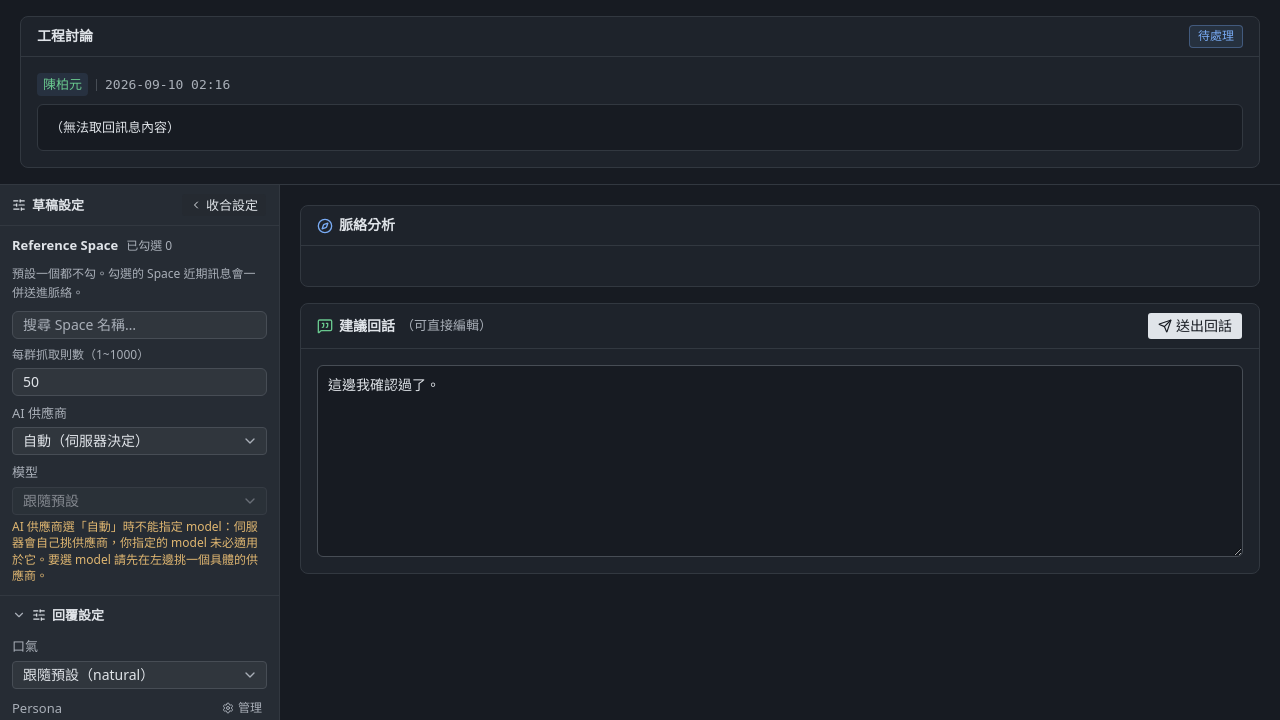
it: 送出的結果 › 正對照：送出成功會關掉對話框並標記已處理
Click the button "送出回話" at (1195, 326), box [1147,312,1243,340]
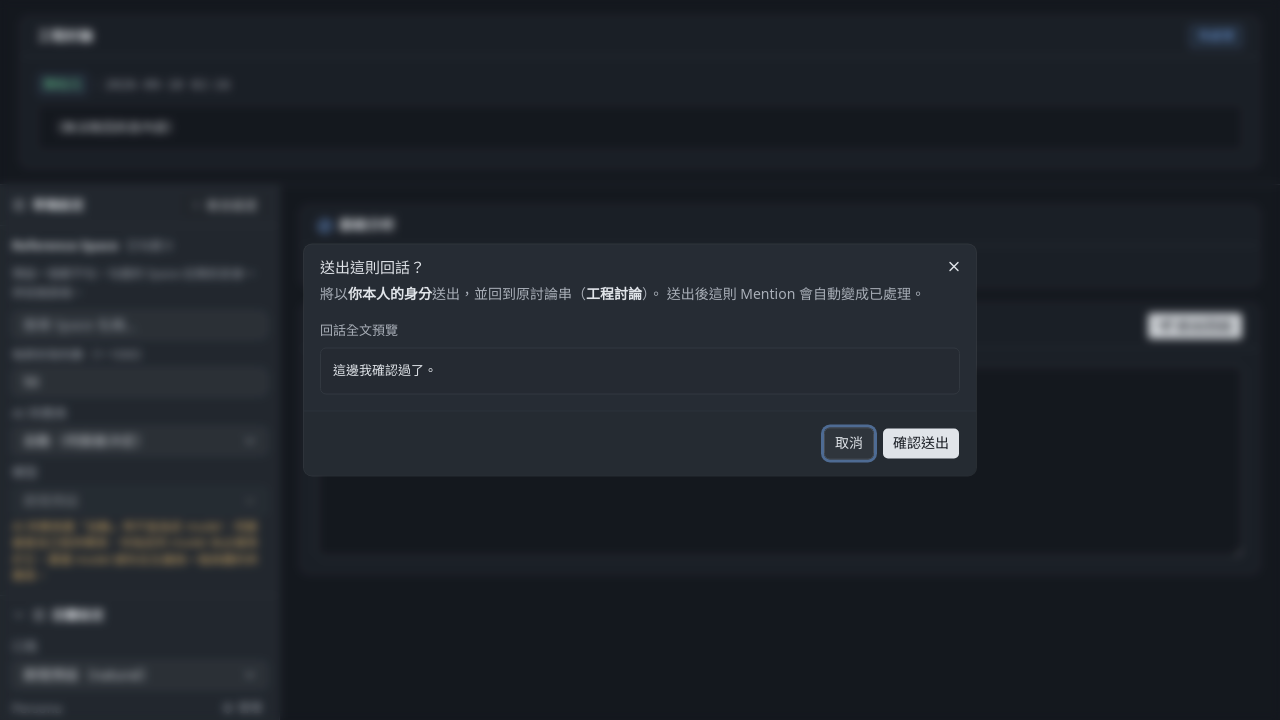
Click the button "確認送出" at (921, 444), box [882,428,960,460]
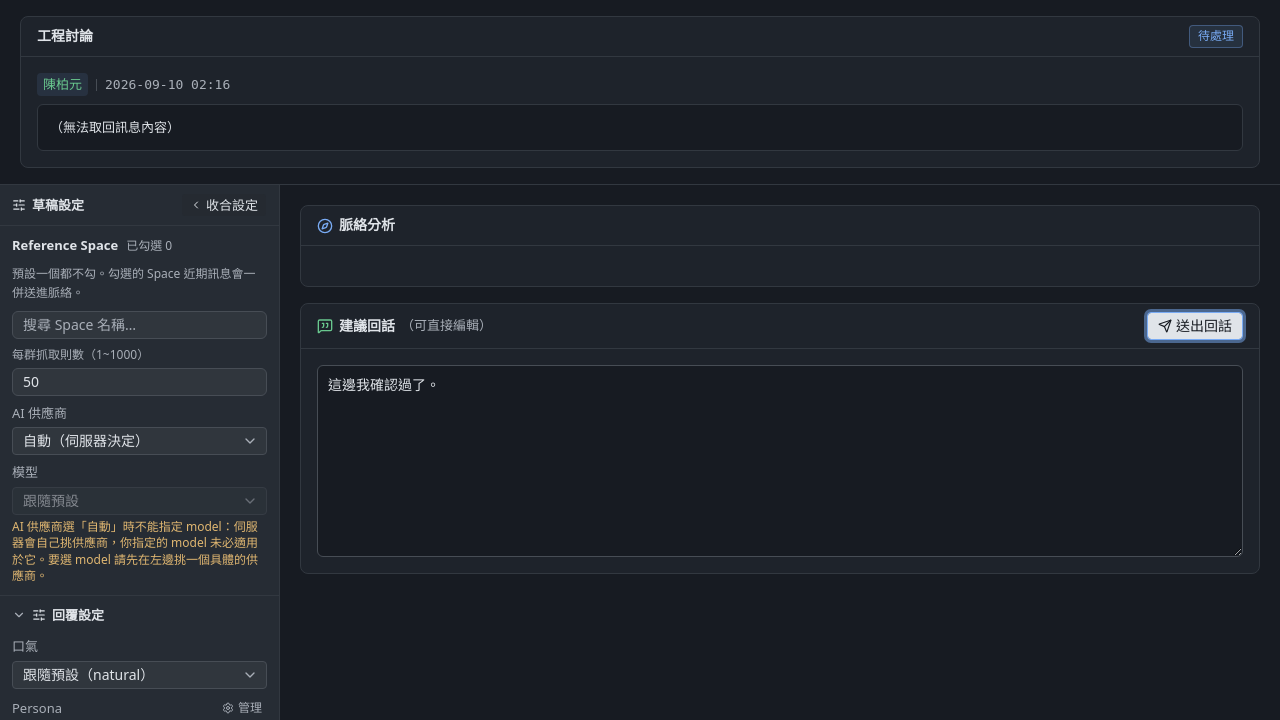
Now the dialog is gone
